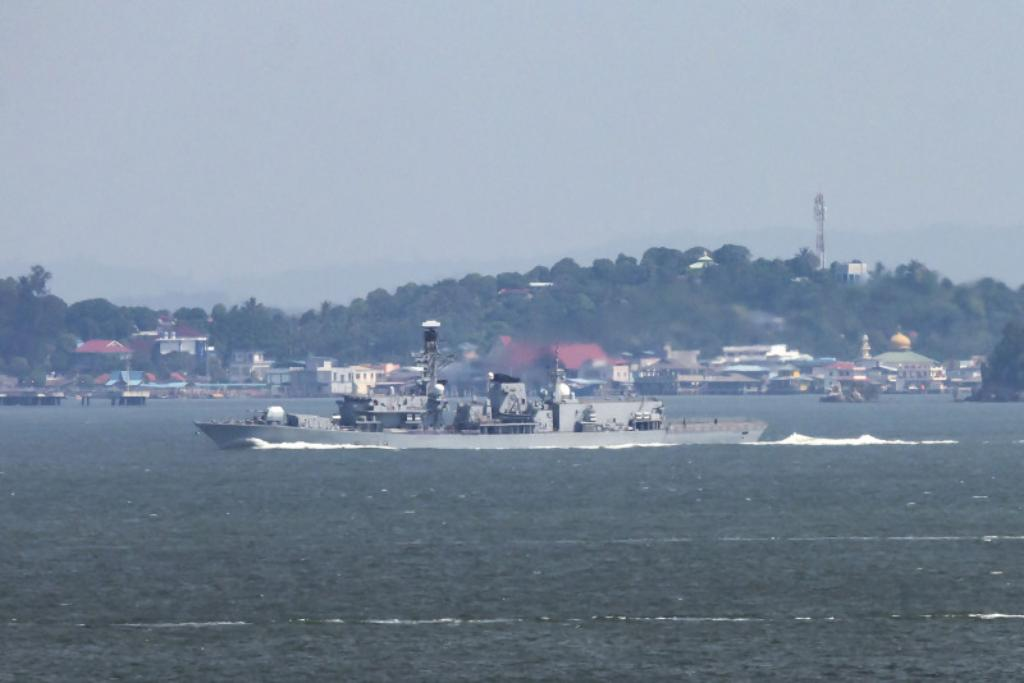Warship: (195, 303, 767, 453)
